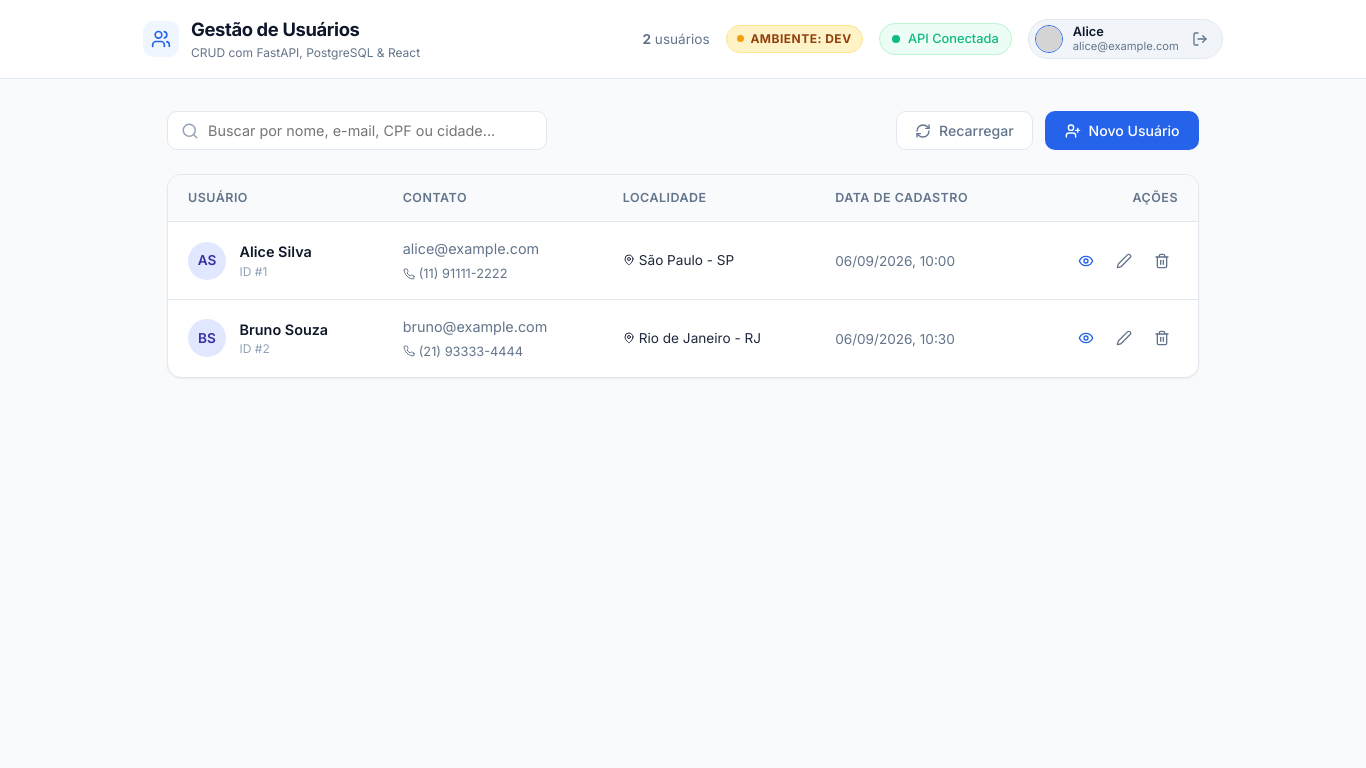
Scenario: App Integration Tests (CRUD Flow & Auth Guard) › fluxo de exclusão: confirma a exclusão no modal e remove da tabela
Expected: the text "Bruno Souza" is shown, [240,319,328,340]
Click the button named "excluir" in the row of "BS": coordinates (1162, 338) [1146,322,1178,355]
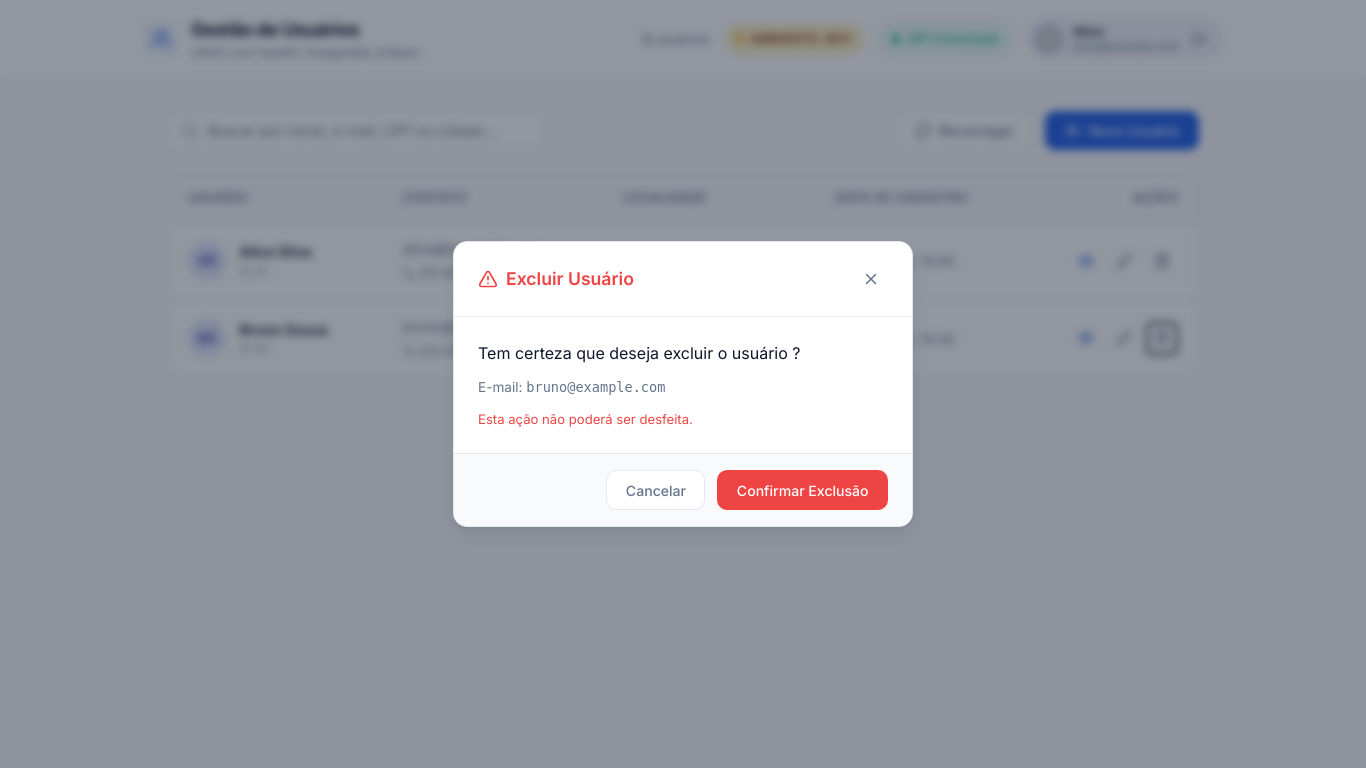
Now the text "Tem certeza que deseja excluir o usuário ?" is shown, box [478,343,800,363]
Click the button "Confirmar Exclusão": coordinates (803, 490) [717,470,888,510]
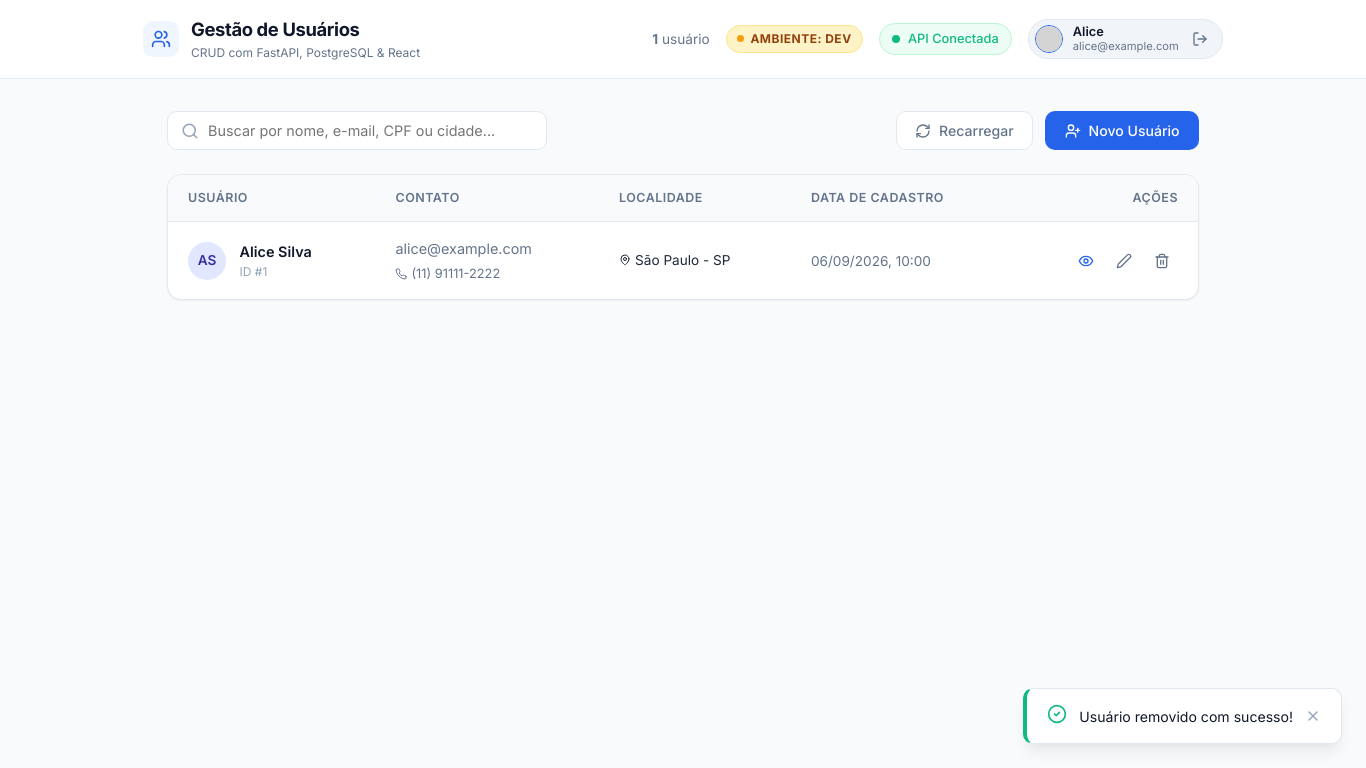
Now the text "Bruno Souza" is gone
Now the text "Usuário removido com sucesso!" is shown, box [1079,706,1293,727]
